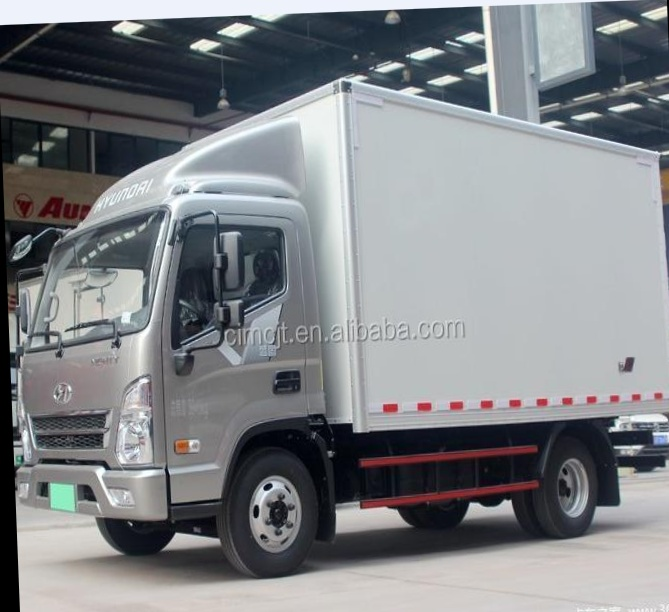truck: (13, 51, 669, 587)
